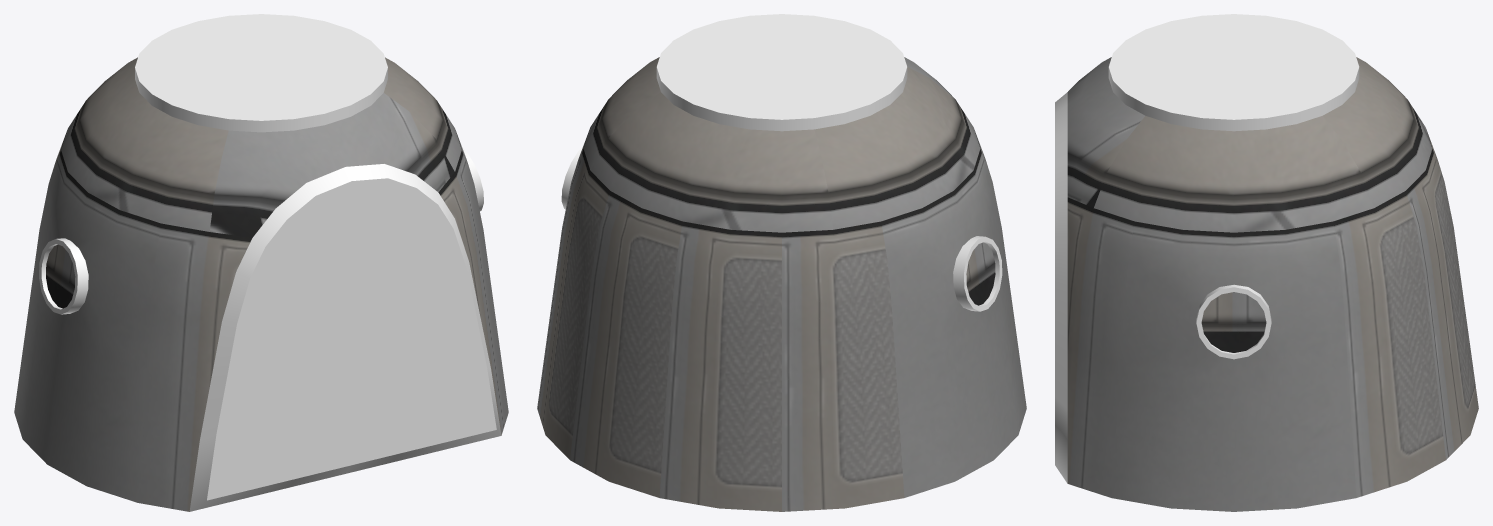
Rendered from Tantares_Crew_2_Interior.obj.
3 views of the same model, side by side, from view 1: azimuth 30°, elevation 25°; view 2: azimuth 150°, elevation 25°; view 3: azimuth 270°, elevation 25° (orthographic).
Parts seen in each view (by area): view 1: Tantares_Crew_2_Interior_Mask, Tantares_Crew_2_Interior, Tantares_Crew_1_Interior_Windows; view 2: Tantares_Crew_2_Interior, Tantares_Crew_2_Interior_Mask, Tantares_Crew_1_Interior_Windows; view 3: Tantares_Crew_2_Interior, Tantares_Crew_2_Interior_Mask, Tantares_Crew_1_Interior_Windows.
Part boxes in pixels (<box>): Tantares_Crew_2_Interior_Mask: <box>39,14,501,511</box>; Tantares_Crew_2_Interior: <box>14,57,508,511</box>; Tantares_Crew_1_Interior_Windows: <box>46,244,75,308</box>; Tantares_Crew_2_Interior: <box>537,57,1026,511</box>; Tantares_Crew_2_Interior_Mask: <box>561,14,1002,311</box>; Tantares_Crew_1_Interior_Windows: <box>966,242,995,305</box>; Tantares_Crew_2_Interior: <box>1067,57,1478,511</box>; Tantares_Crew_2_Interior_Mask: <box>1055,14,1359,483</box>; Tantares_Crew_1_Interior_Windows: <box>1201,292,1266,352</box>.
Bounding box in the file's own units: 1.22 × 0.94 × 1.06.
